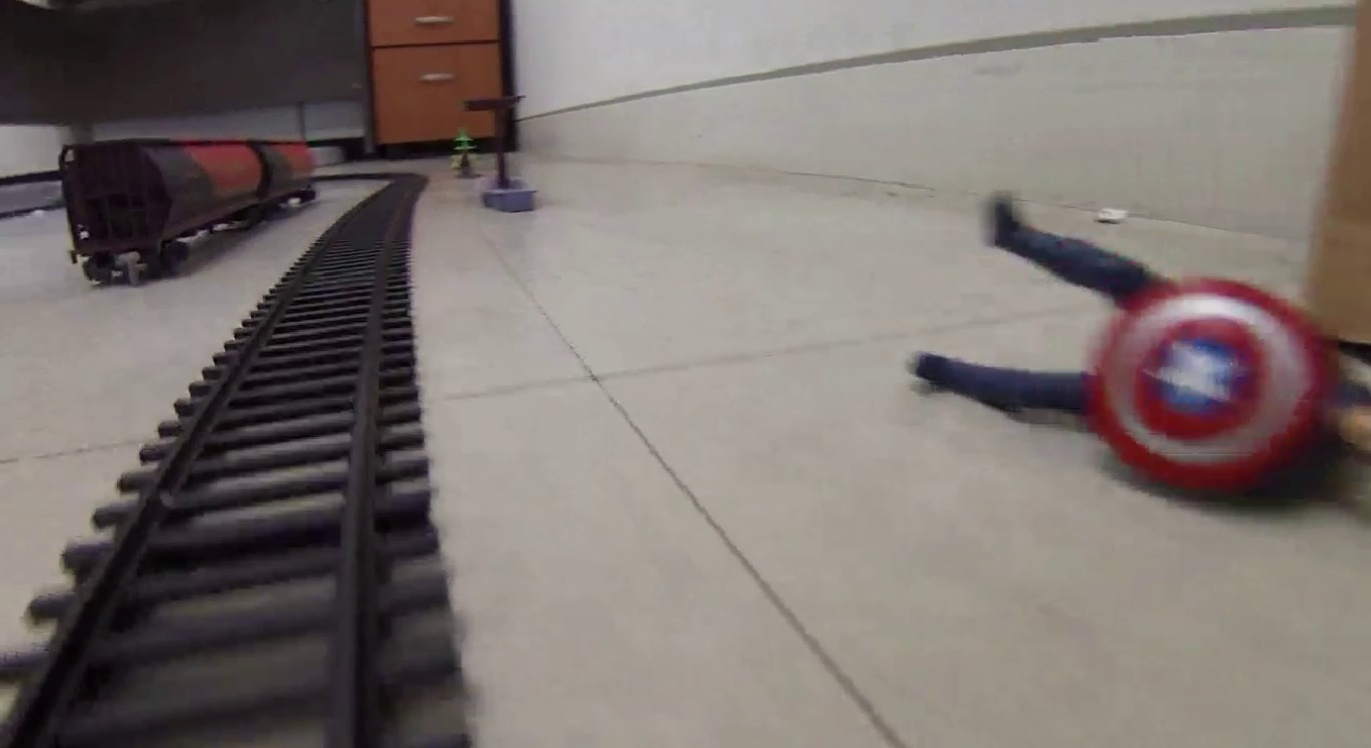people: (915, 194, 1371, 498)
